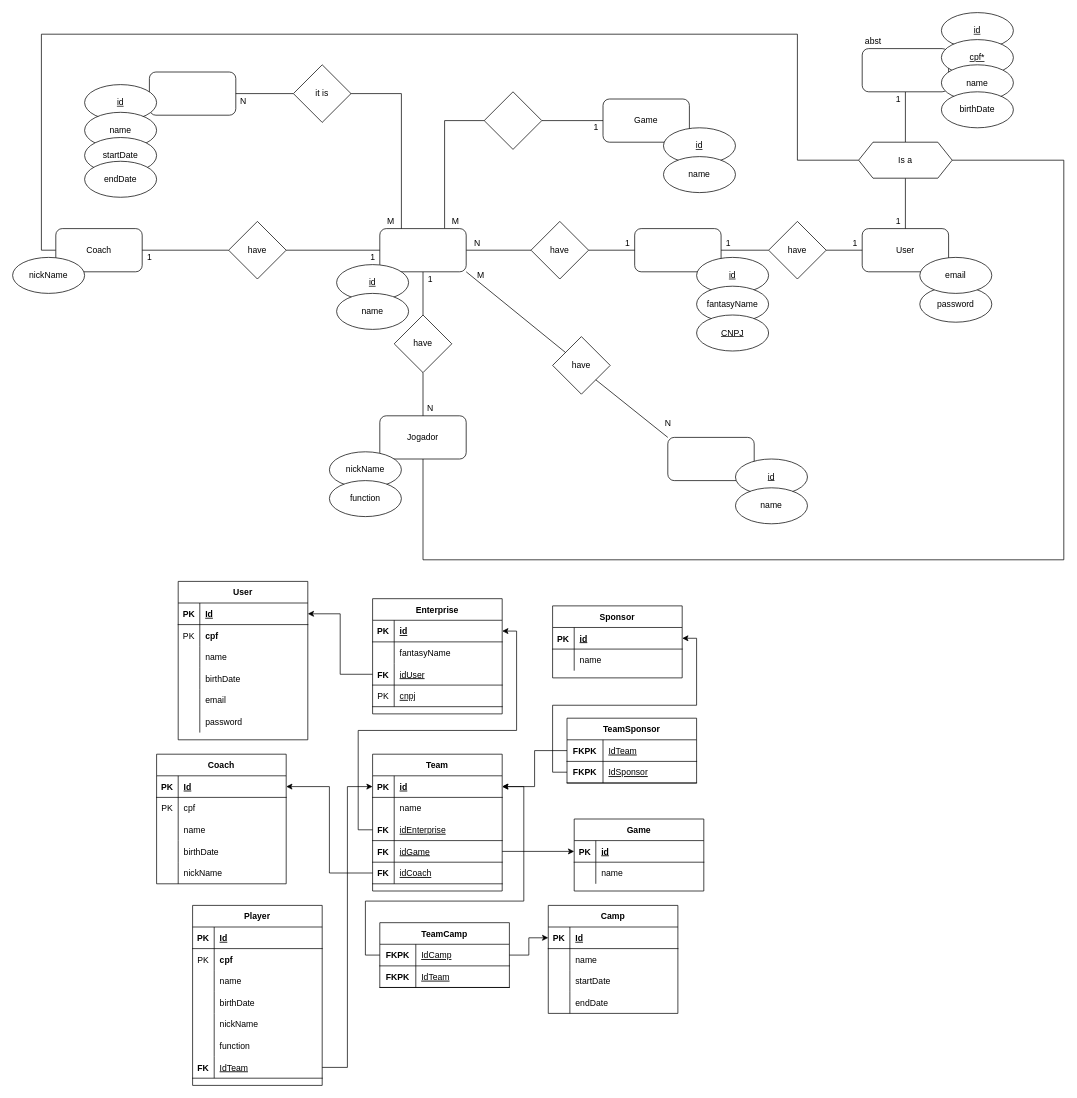
Some shapes in this 1077 by 1098 pixel diagram are drawn without their labels. Here are the shapes that lost their labels. From the top down, the centre of each, then its label:
At pixel 905 70: "People".
At pixel 192 93: "Campeonato".
At pixel 512 120: "play".
At pixel 422 250: "Time".
At pixel 677 250: "Empresa".
At pixel 710 459: "Patrocinador".
